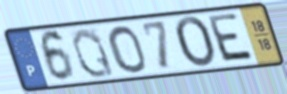6: (38, 28, 78, 85)
7: (140, 18, 172, 73)
E: (206, 11, 258, 64)
O: (172, 15, 219, 70), (106, 24, 149, 75)
Q: (70, 26, 117, 80)
